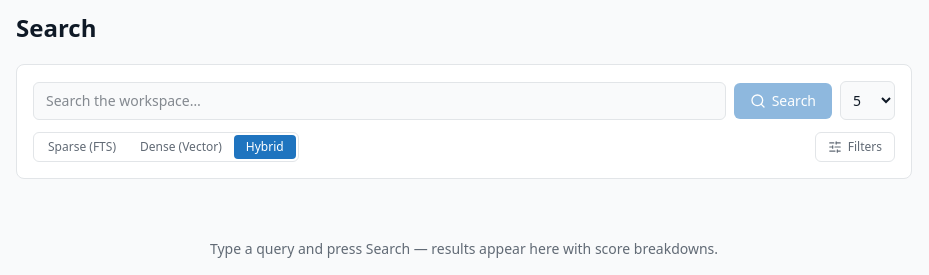
Test: SearchPage › shows empty state when there are no hits
Type "nothing" into the field with test id "search-input" at (379,100), box [33,82,726,120]
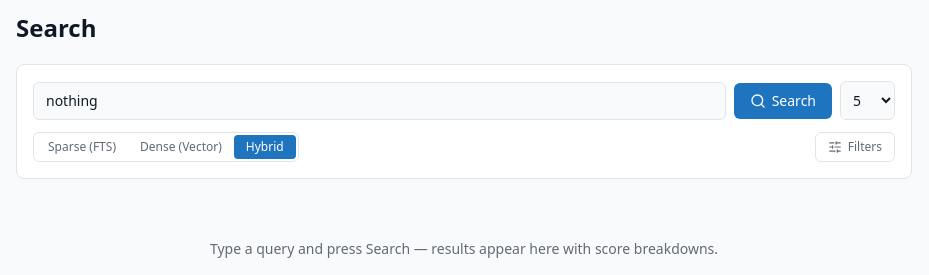
Click the button with test id "search-run" at (783,100), box [734,82,832,118]
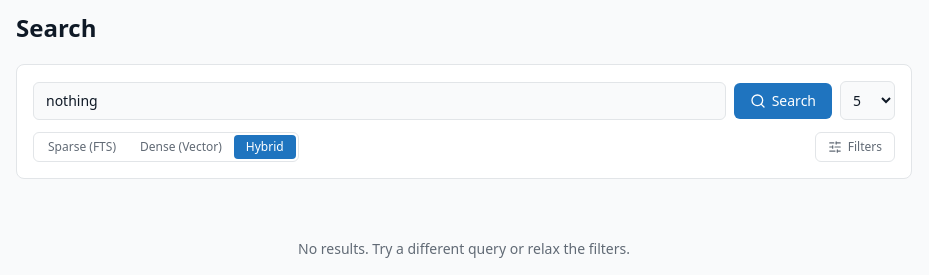
Expected: the text "No results. Try a different query or relax the filters." is shown, [298,239,630,258]
